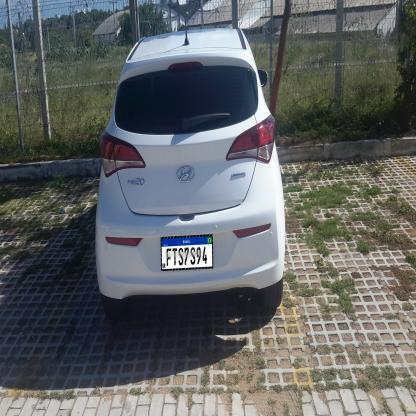PlacaM: (161, 234, 213, 271)
